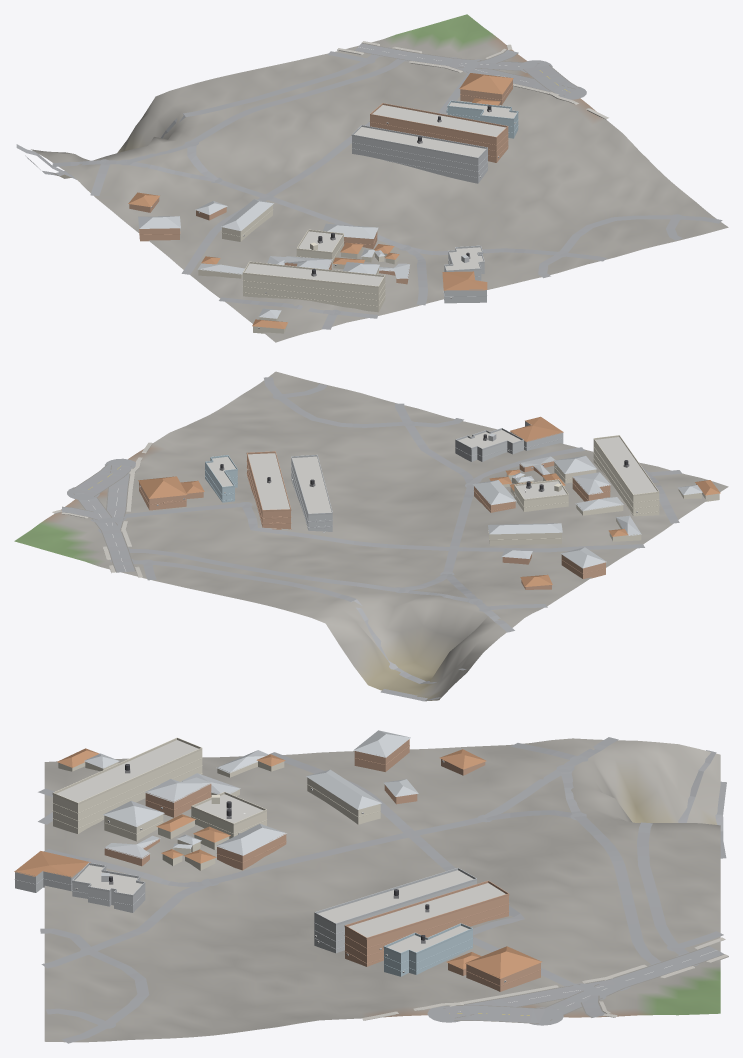
3 views of the same model, one above another, from view 1: azimuth 30°, elevation 25°; view 2: azimuth 150°, elevation 25°; view 3: azimuth 270°, elevation 25° (orthographic). The views are drawn at different scales.
Visible parts, largest first — view 1: Terrain-col, Buildings-col, Roads-col, Details, Sidewalks-col; view 2: Terrain-col, Buildings-col, Roads-col, Details, Sidewalks-col; view 3: Terrain-col, Buildings-col, Roads-col, Details, Sidewalks-col.
Part boxes in pixels (x1,y1,x2,y2): Terrain-col: [31, 14, 728, 342]; Buildings-col: [128, 73, 518, 333]; Roads-col: [16, 43, 722, 329]; Details: [139, 85, 518, 328]; Sidewalks-col: [337, 41, 608, 119]; Terrain-col: [14, 371, 728, 701]; Buildings-col: [138, 416, 720, 589]; Roads-col: [61, 377, 681, 701]; Details: [139, 428, 659, 574]; Sidewalks-col: [52, 442, 152, 577]; Terrain-col: [44, 738, 720, 1042]; Buildings-col: [14, 730, 541, 991]; Roads-col: [38, 737, 726, 1043]; Details: [14, 737, 540, 986]; Sidewalks-col: [362, 937, 728, 1020].
Bounding box in the file's own units: 268 × 40.82 × 271.
